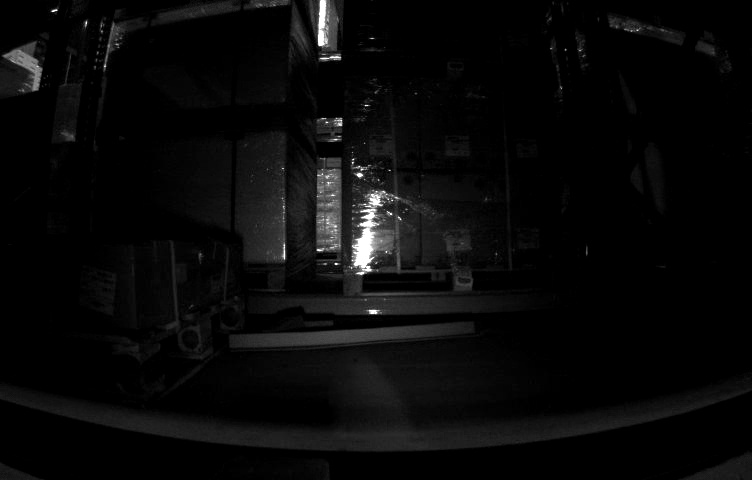True Barcode: (72, 268, 119, 315)
